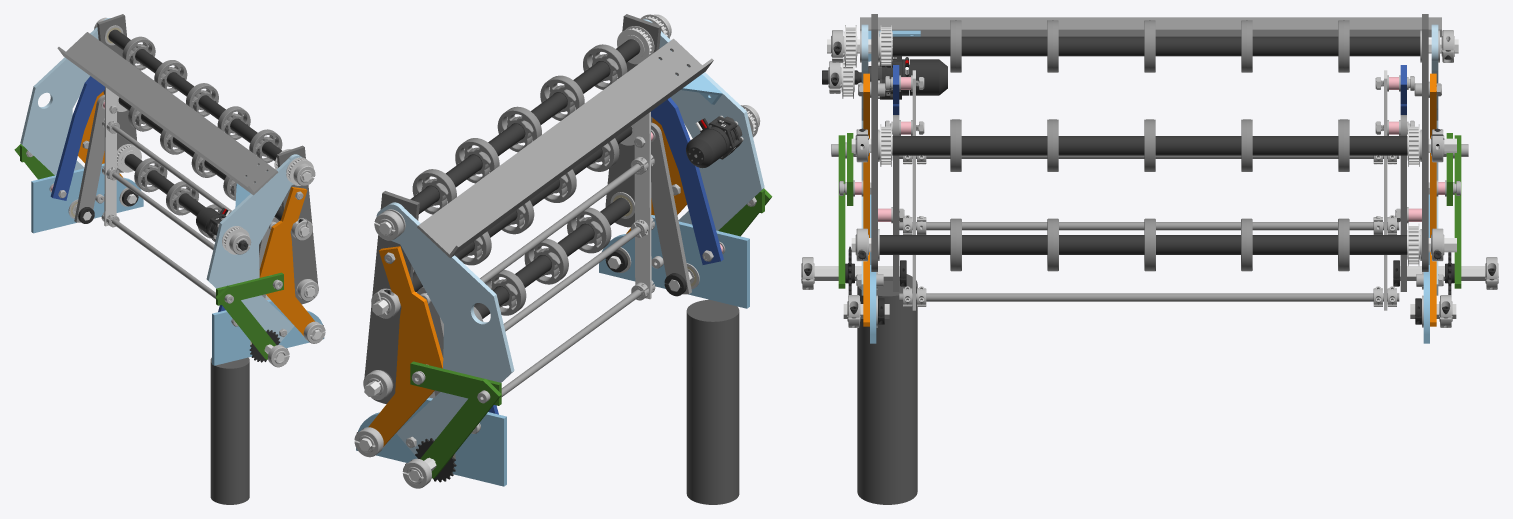
3 views of the same model, side by side, from view 1: azimuth 30°, elevation 25°; view 2: azimuth 150°, elevation 25°; view 3: azimuth 270°, elevation 25° (orthographic). The views are drawn at different scales.
Visible parts, largest first — view 1: W2 - Wheel Arm Pivot Bar (×2), Brace, Motor!, P - Pivot Block (×2), 2" ION Compliant Wheel (40A, 1/2" Hex Bore) (×7), W1 - Wheel Arm Driving Bar (×2), W3 - Wheel Bar (×2), Rod (×3), R2 - Rod Arm Pivot Bar, R1 - Rod Arm Driving Bar, Rod Arm Connector (×2), R3 - Rod Bar (+4 smaller); view 2: W2 - Wheel Arm Pivot Bar (×2), Brace, 2" ION Compliant Wheel (40A, 1/2" Hex Bore) (×12), Motor!, P - Pivot Block (×2), W1 - Wheel Arm Driving Bar (×2), W3 - Wheel Bar (×2), Rod (×3), 1/2" Hex Bore Custom Spacer (0.75" OD,3.25" L) (×6), R2 - Rod Arm Pivot Bar, R1 - Rod Arm Driving Bar, Rod Arm Connector (×2) (+9 smaller); view 3: 1/2" Hex Bore Custom Spacer (0.75" OD,3.25" L) (×12), Motor!, Brace, Rod (×3), 1/2" Hex Bore Custom Spacer (0.75" OD,2.188" L) (×4), W3 - Wheel Bar (×2), 1/2" Hex Bore Custom Spacer (0.75" OD,2.687" L) (×2), W1 - Wheel Arm Driving Bar (×2), Rod Arm Connector (×2), R1 - Rod Arm Driving Bar (×2), R3 - Rod Bar (×2), W2 - Wheel Arm Pivot Bar (×2) (+1 smaller).
Part boxes in pixels (left/top/right/bottom): W2 - Wheel Arm Pivot Bar (×2): left=20, top=18, right=302, bottom=343; Brace: left=57, top=32, right=278, bottom=195; Motor!: left=210, top=357, right=249, bottom=504; P - Pivot Block (×2): left=31, top=163, right=324, bottom=365; 2" ION Compliant Wheel (40A, 1/2" Hex Bore) (×7): left=122, top=36, right=282, bottom=215; W1 - Wheel Arm Driving Bar (×2): left=78, top=91, right=314, bottom=335; W3 - Wheel Bar (×2): left=97, top=14, right=317, bottom=304; Rod (×3): left=104, top=125, right=231, bottom=298; R2 - Rod Arm Pivot Bar: left=50, top=76, right=104, bottom=200; R1 - Rod Arm Driving Bar: left=74, top=94, right=104, bottom=222; Rod Arm Connector (×2): left=14, top=144, right=276, bottom=359; R3 - Rod Bar: left=104, top=87, right=117, bottom=226; W2 - Wheel Arm Pivot Bar (×2): left=376, top=19, right=764, bottom=456; Brace: left=417, top=38, right=713, bottom=258; 2" ION Compliant Wheel (40A, 1/2" Hex Bore) (×12): left=412, top=44, right=627, bottom=315; Motor!: left=686, top=299, right=739, bottom=504; P - Pivot Block (×2): left=356, top=215, right=749, bottom=486; W1 - Wheel Arm Driving Bar (×2): left=368, top=118, right=686, bottom=446; W3 - Wheel Bar (×2): left=364, top=14, right=661, bottom=403; Rod (×3): left=480, top=158, right=652, bottom=396; 1/2" Hex Bore Custom Spacer (0.75" OD,3.25" L) (×6): left=445, top=61, right=609, bottom=287; R2 - Rod Arm Pivot Bar: left=651, top=97, right=723, bottom=264; R1 - Rod Arm Driving Bar: left=651, top=122, right=691, bottom=294; Rod Arm Connector (×2): left=420, top=188, right=772, bottom=478; 1/2" Hex Bore Custom Spacer (0.75" OD,3.25" L) (×12): left=961, top=36, right=1338, bottom=254; Motor!: left=857, top=274, right=917, bottom=504; Brace: left=860, top=17, right=1441, bottom=37; Rod (×3): left=899, top=155, right=1399, bottom=301; 1/2" Hex Bore Custom Spacer (0.75" OD,2.188" L) (×4): left=892, top=36, right=1407, bottom=254; W3 - Wheel Bar (×2): left=871, top=14, right=1428, bottom=271; 1/2" Hex Bore Custom Spacer (0.75" OD,2.687" L) (×2): left=879, top=36, right=1420, bottom=254; W1 - Wheel Arm Driving Bar (×2): left=863, top=73, right=1436, bottom=326; Rod Arm Connector (×2): left=838, top=135, right=1461, bottom=288; R1 - Rod Arm Driving Bar (×2): left=893, top=115, right=1406, bottom=291; R3 - Rod Bar (×2): left=912, top=70, right=1387, bottom=310; W2 - Wheel Arm Pivot Bar (×2): left=861, top=24, right=1438, bottom=295.
Size of the model in its own units: 0.2022 by 0.5486 by 0.673.
